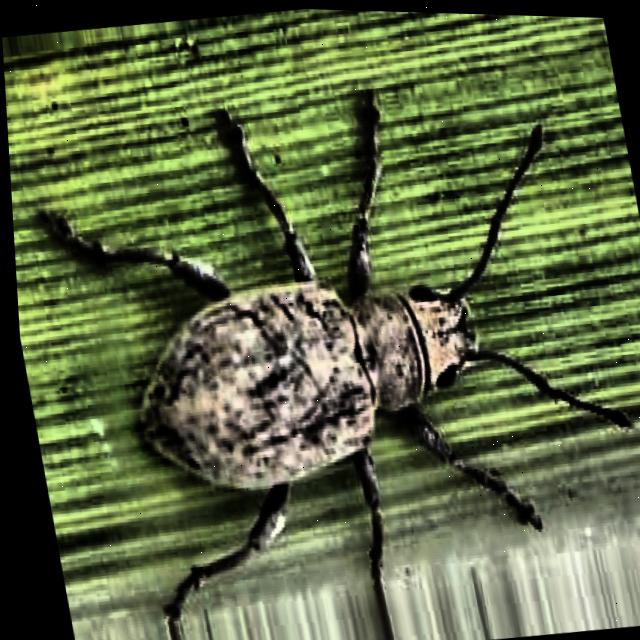Stink bug: (29, 32, 603, 640)
